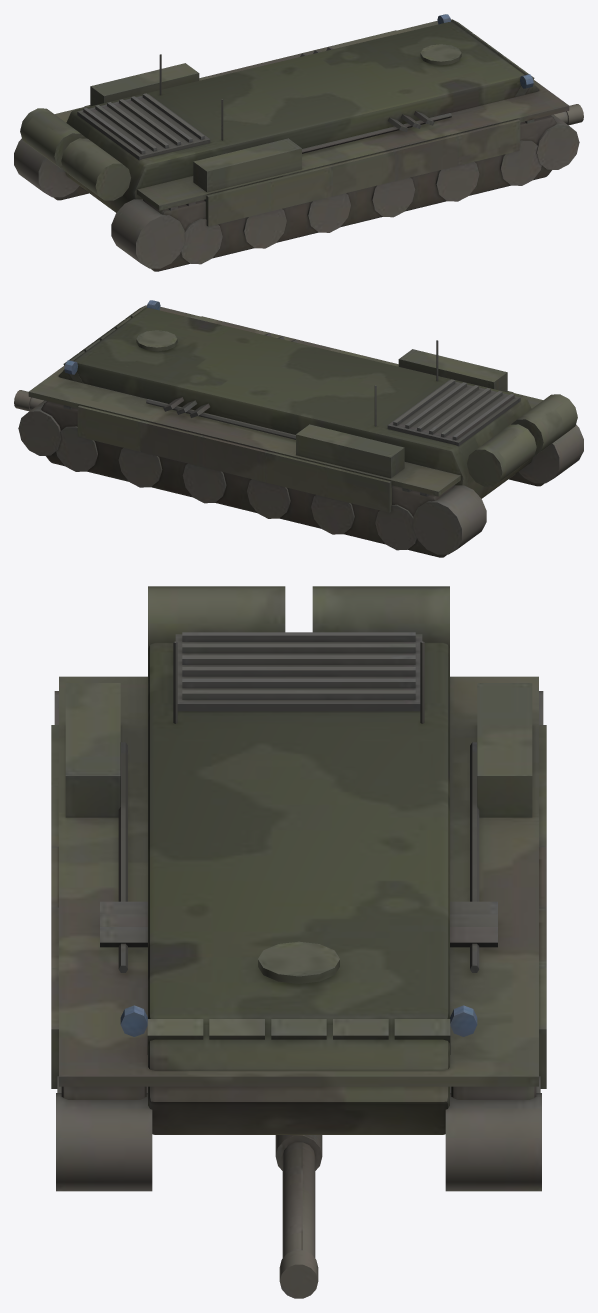
The picture shows the model from 3 angles, top to bottom: view 1: azimuth 30°, elevation 25°; view 2: azimuth 150°, elevation 25°; view 3: azimuth 270°, elevation 25°; orthographic projection. The views are drawn at different scales.
Parts seen in each view (by area): view 1: g_t90_hull, g_t90_gun; view 2: g_t90_hull, g_t90_gun; view 3: g_t90_hull, g_t90_gun.
Boxes of the visible parts, x1,y1,x2,y2 form: g_t90_hull: (14,14,579,271); g_t90_gun: (554,104,583,125); g_t90_hull: (18,300,583,557); g_t90_gun: (14,390,43,411); g_t90_hull: (51,586,546,1191); g_t90_gun: (275,1135,322,1298).
Bounding box in the file's own units: 8.78 × 2.27 × 3.61.
4 materials, 3 textured.
